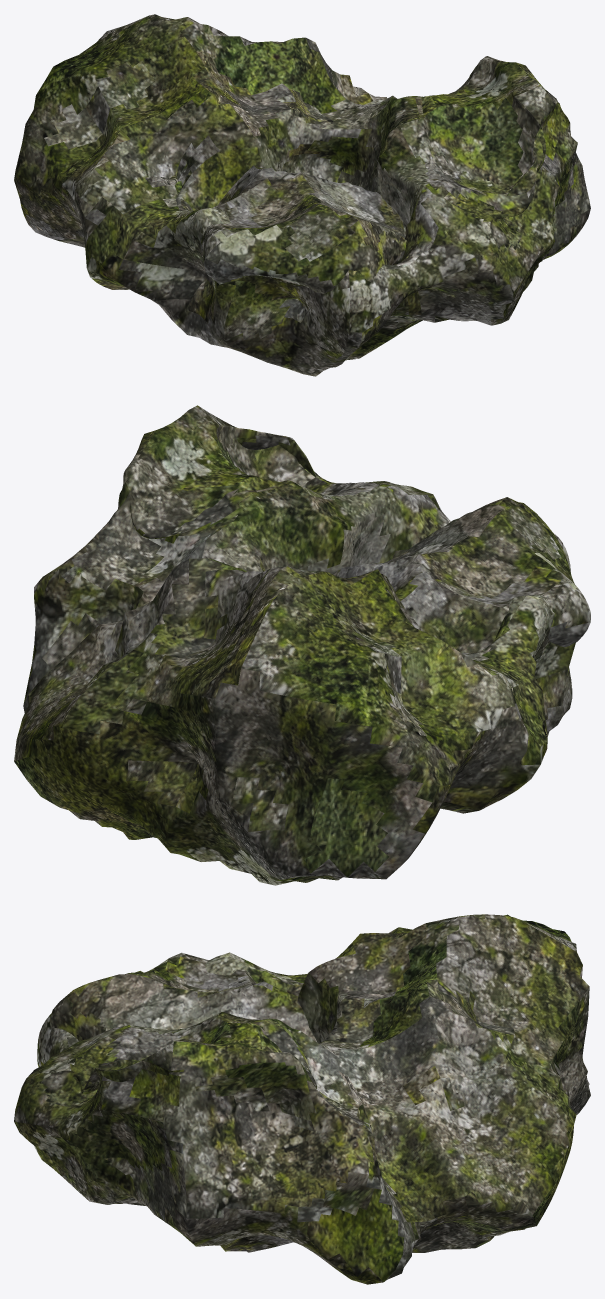
The model's file is rock6.glb.
3 views of the same model, one above another, from view 1: azimuth 30°, elevation 25°; view 2: azimuth 150°, elevation 25°; view 3: azimuth 270°, elevation 25° (orthographic). The views are drawn at different scales.
Parts seen in each view (by area): view 1: Cube; view 2: Cube; view 3: Cube.
Part boxes in pixels (x1,y1,x2,y2): Cube: (14,14,590,376); Cube: (14,405,590,885); Cube: (14,914,590,1284).
Size of the model in its own units: 16.46 by 9.9 by 18.12.
1 material, 1 textured.
